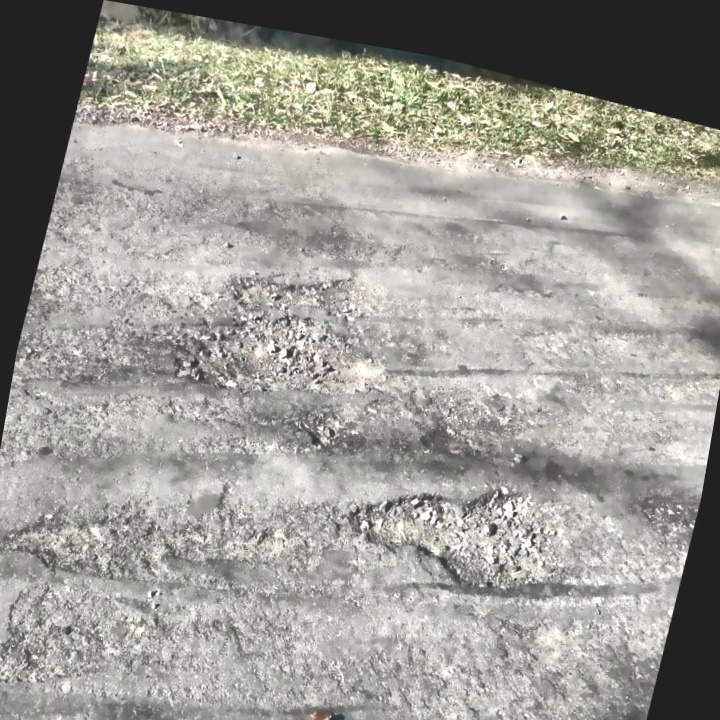pothole: (334, 443, 583, 608), (149, 281, 390, 422), (221, 245, 384, 338), (293, 405, 352, 459)
